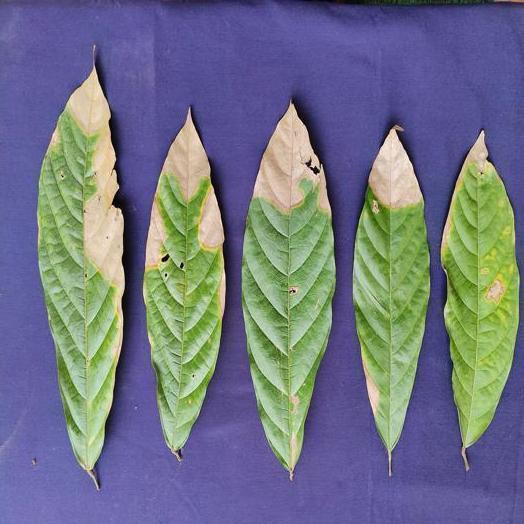Potassium: (38, 65, 124, 488), (242, 103, 335, 479), (143, 110, 225, 460), (441, 131, 519, 470), (354, 127, 429, 475)
